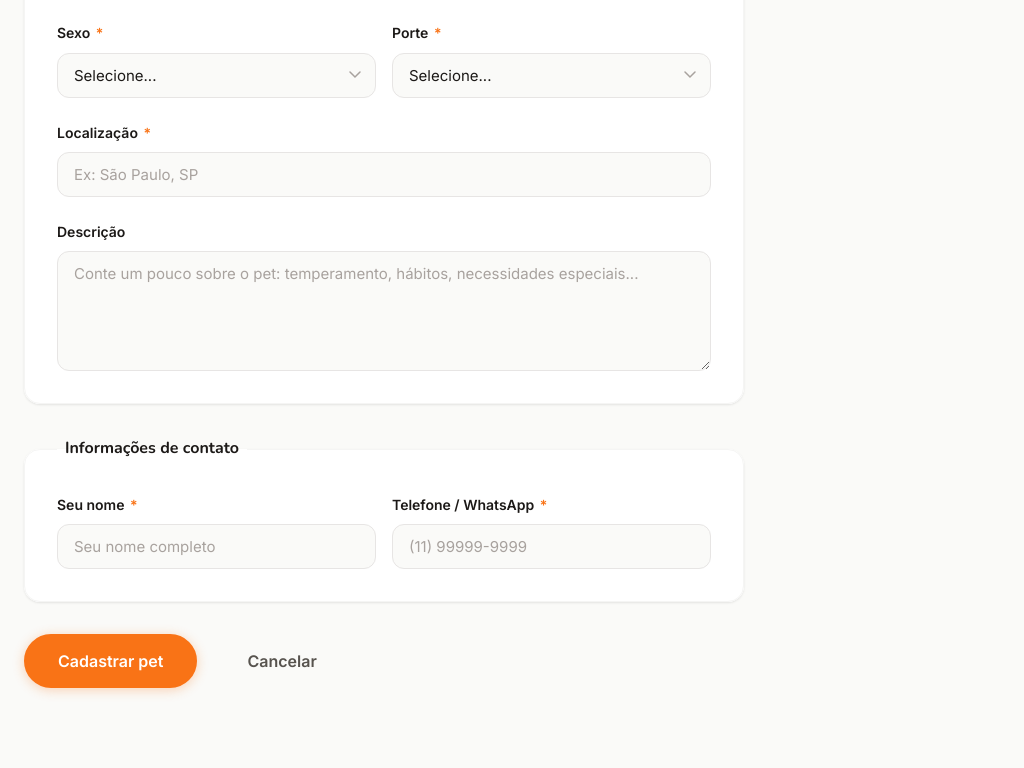
it: CadastrarPage › remove o erro do campo ao começar a digitar
This screenshot has width=1024, height=768.
(page scrolled)
Click the button with test id "register-btn-submit" at [111, 662], box [24, 634, 198, 688]
(page scrolled)
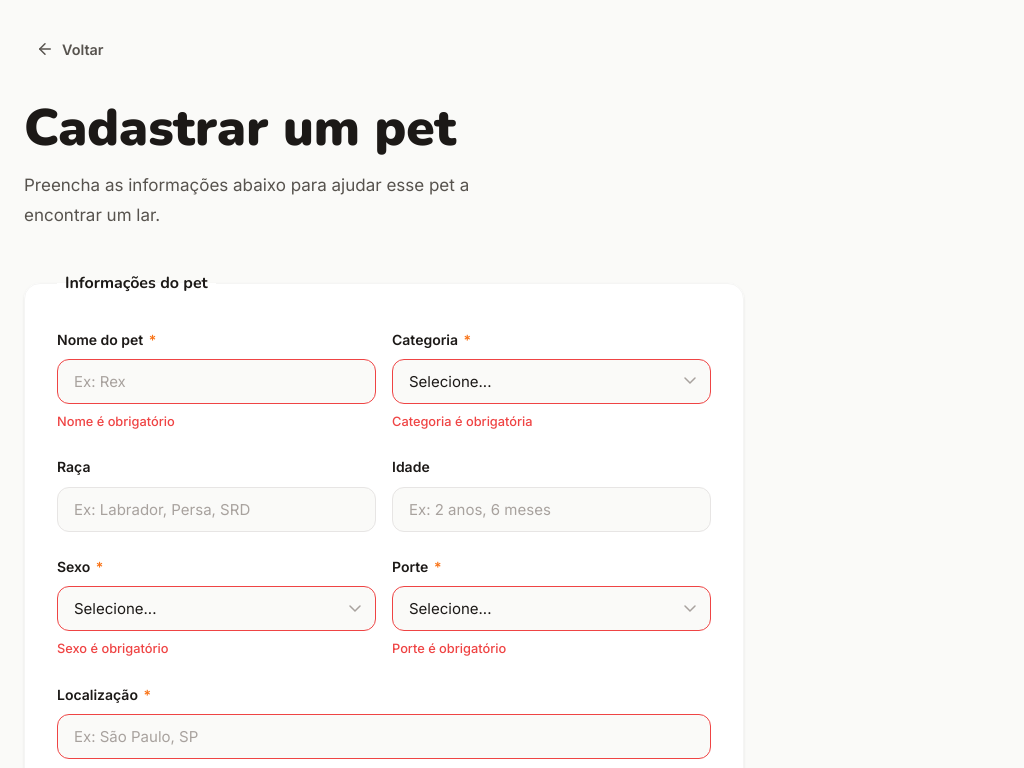
Check: the message "Nome é obrigatório" is shown, box [57, 414, 175, 429]
Type "Rex" into the field with test id "register-input-name" at [216, 381], box [57, 359, 376, 404]
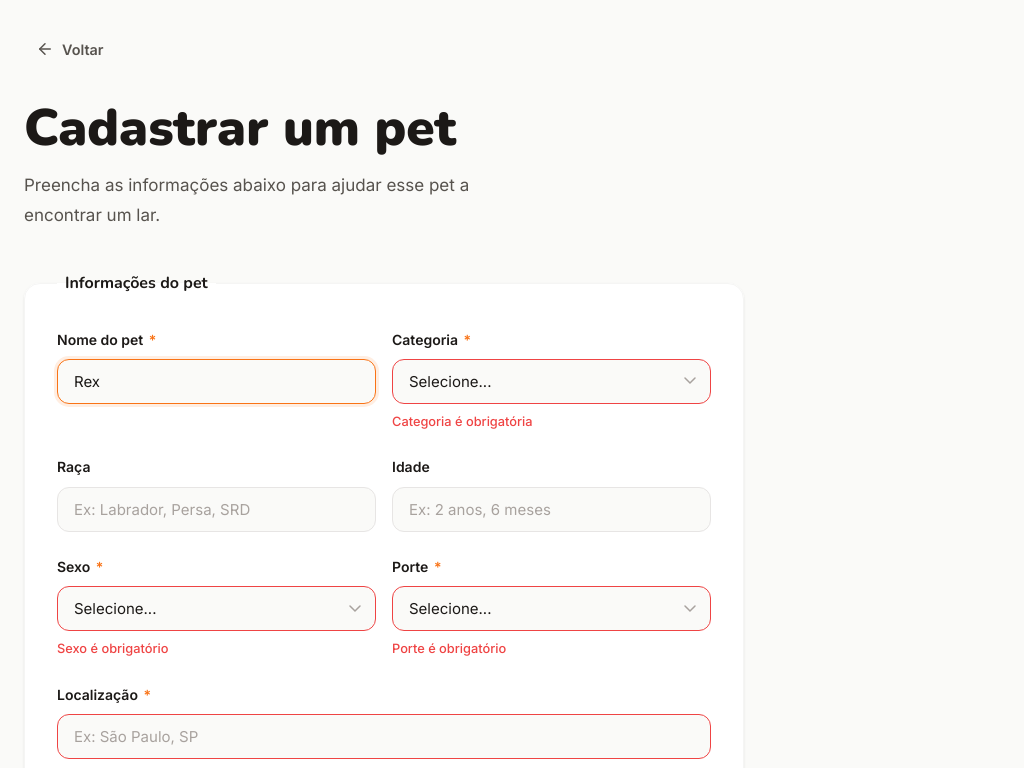
Check: the message with test id "register-error-name" is gone
